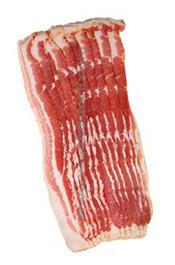bacon: (19, 12, 153, 239)
